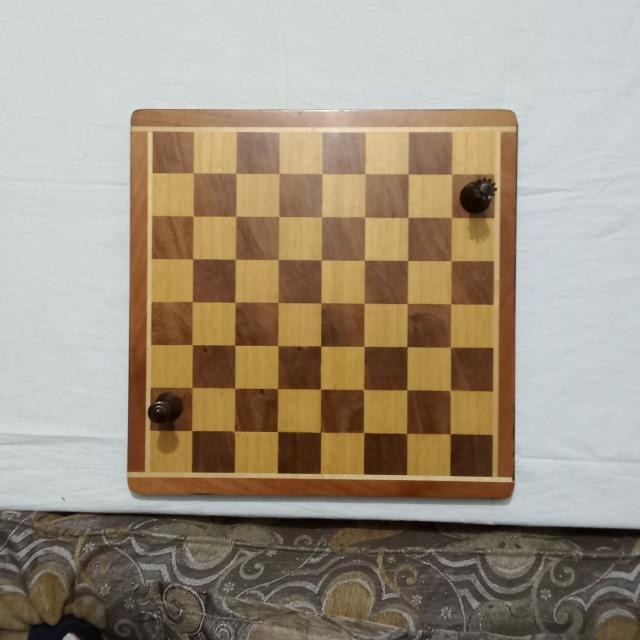black-king: (144, 390, 184, 424)
black-queen: (458, 176, 498, 216)
